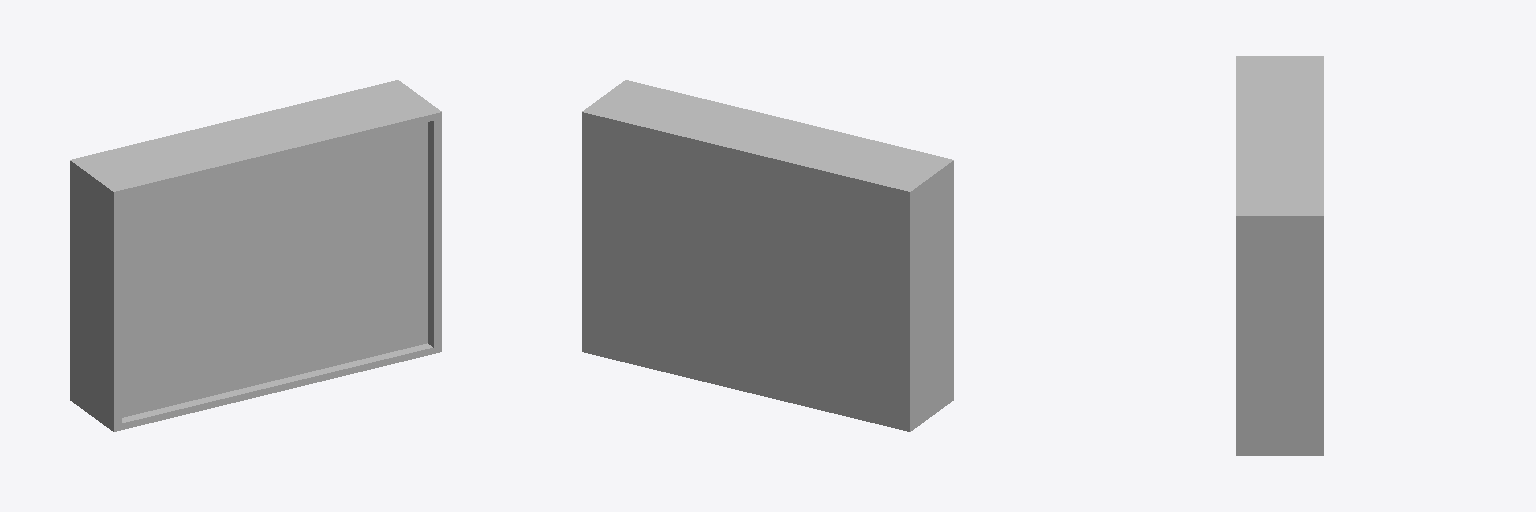
The model's file is skyscraper2.obj.
The picture shows the model from 3 angles: view 1: azimuth 30°, elevation 25°; view 2: azimuth 150°, elevation 25°; view 3: azimuth 270°, elevation 25°; orthographic projection.
Parts seen in each view (by area): view 1: Cube_Cube.003; view 2: Cube_Cube.003; view 3: Cube_Cube.003.
Part boxes in pixels (x1,y1,x2,y2): Cube_Cube.003: (70, 80, 441, 431); Cube_Cube.003: (582, 80, 953, 431); Cube_Cube.003: (1236, 56, 1323, 455).
Size of the model in its own units: 10 by 6.98 by 2.32.